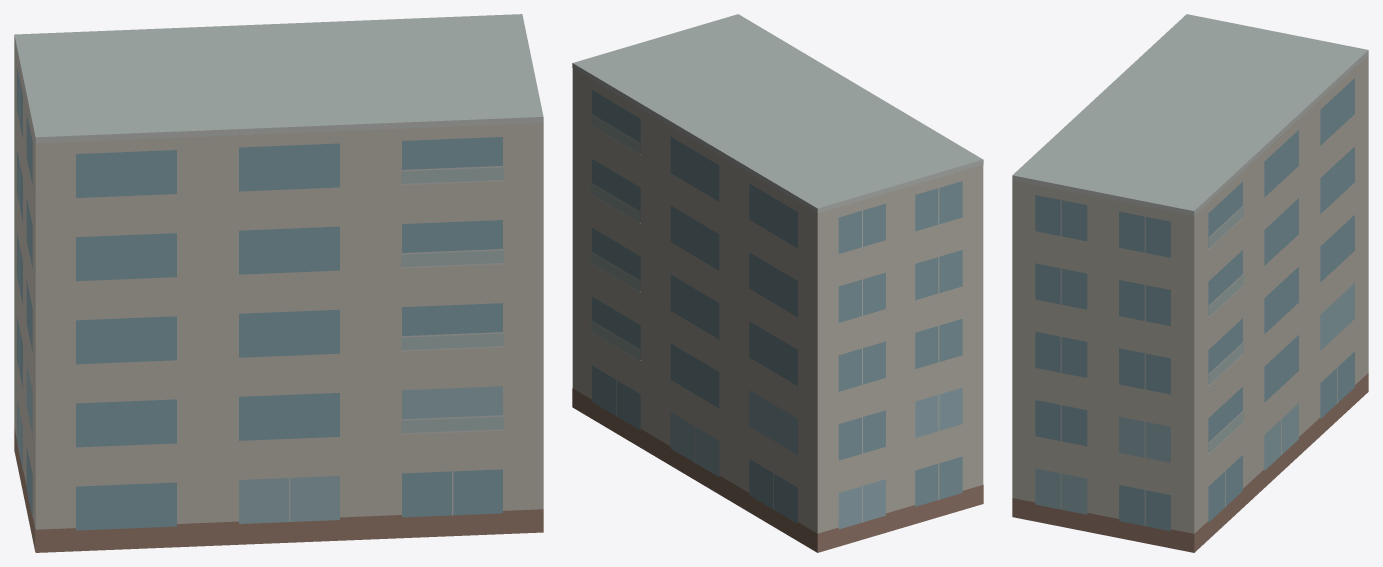
File: survey-upis-32530667.glb
3 renders of one model, left to right at view 1: azimuth 30°, elevation 25°; view 2: azimuth 150°, elevation 25°; view 3: azimuth 270°, elevation 25°, orthographic. The views are drawn at different scales.
Parts seen in each view (by area): view 1: survey-upis-32530667.tmp; view 2: survey-upis-32530667.tmp; view 3: survey-upis-32530667.tmp.
Boxes of the visible parts, left/top/right/bottom form: survey-upis-32530667.tmp: left=14, top=14, right=543, bottom=552; survey-upis-32530667.tmp: left=572, top=14, right=983, bottom=552; survey-upis-32530667.tmp: left=1012, top=14, right=1368, bottom=552.
Bounding box in the file's own units: 20.92 × 16.9 × 15.98.
